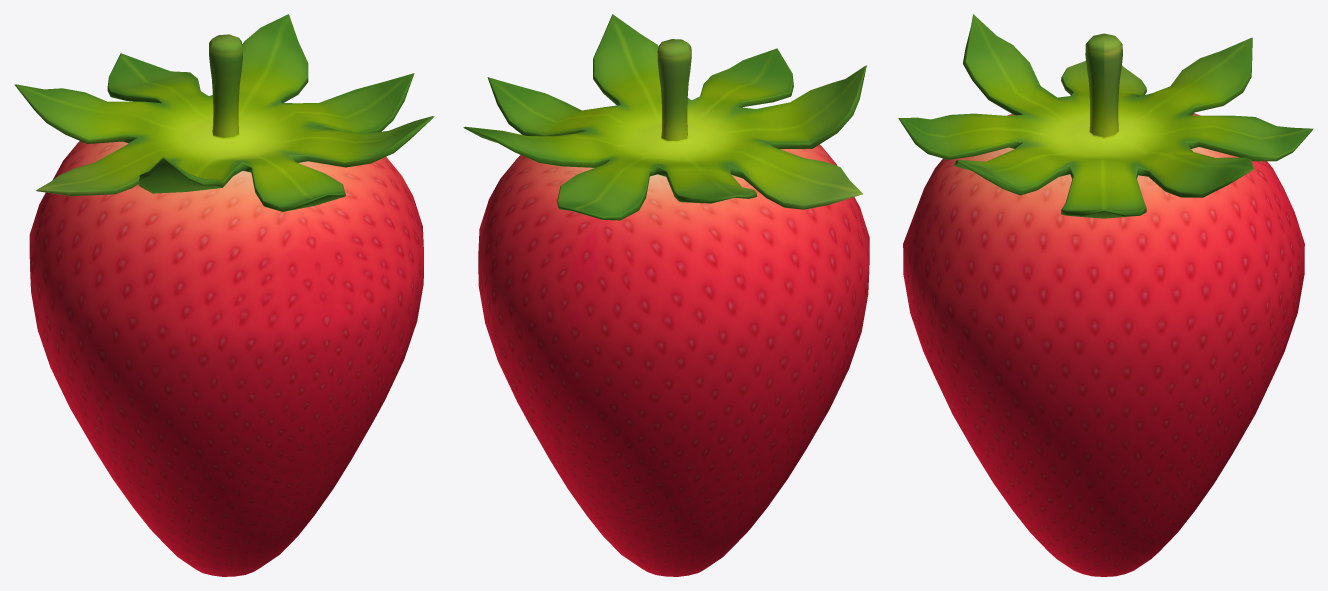
Rendered from Strawberry_Singleunit03.fbx.
The picture shows the model from 3 angles, left to right: view 1: azimuth 30°, elevation 25°; view 2: azimuth 150°, elevation 25°; view 3: azimuth 270°, elevation 25°; orthographic projection.
Parts seen in each view (by area): view 1: Strawberry_Singleunit; view 2: Strawberry_Singleunit; view 3: Strawberry_Singleunit.
Part boxes in pixels (box(x1,y1,x2,y2)): Strawberry_Singleunit: box(14, 14, 434, 576); Strawberry_Singleunit: box(463, 14, 869, 576); Strawberry_Singleunit: box(898, 14, 1313, 576).
Bounding box in the file's own units: 107 × 143 × 101.
2 materials, 2 textured.
